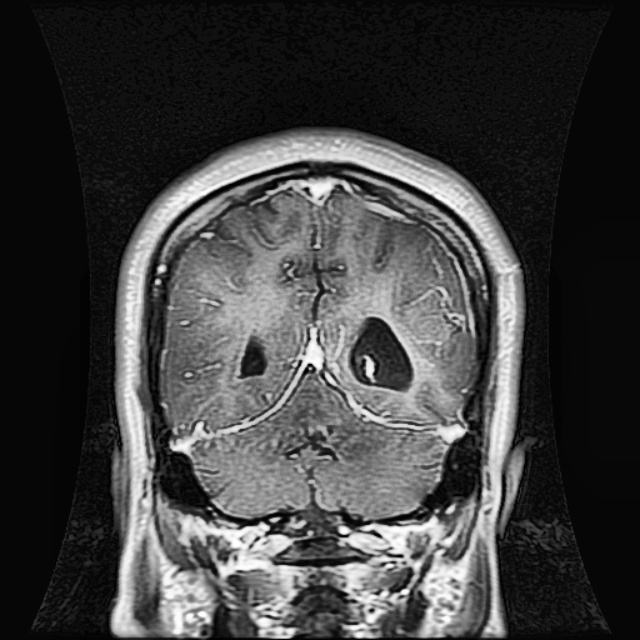Meningioma: (352, 310, 414, 387)
